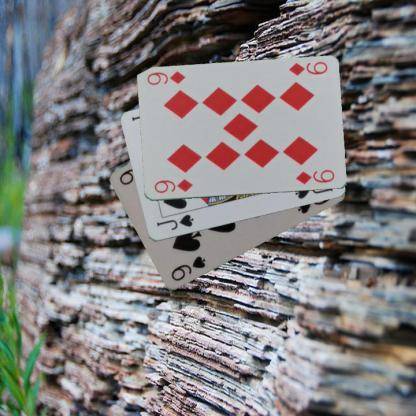9d: (286, 60, 329, 78), (152, 177, 194, 195)
9s: (168, 254, 207, 283)
Js: (154, 212, 194, 232)
